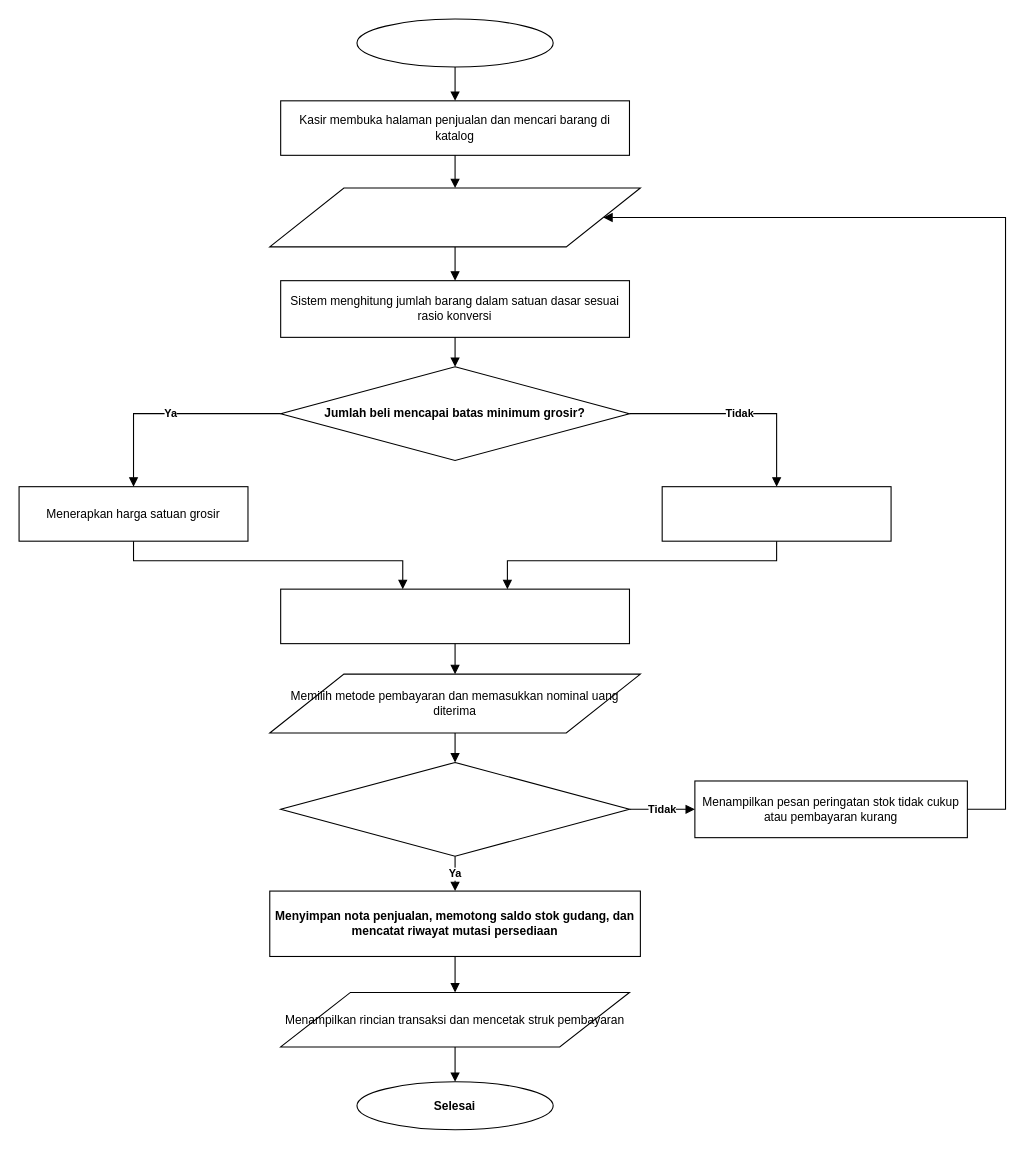
Image size: 1033x1149. Some labels were removed from this diagram. Each missing label, with the centre of its shape:
"Memilih barang, satuan jual (utuh atau pecahan), dan jumlah beli" goes at point 454,217.
"Menerapkan harga satuan eceran" goes at point 776,513.
"Mulai" goes at point 454,42.
"Saldo stok gudang cukup dan pembayaran sesuai?" goes at point 454,808.
"Sistem menghitung subtotal barang dan total tagihan belanja" goes at point 454,616.
